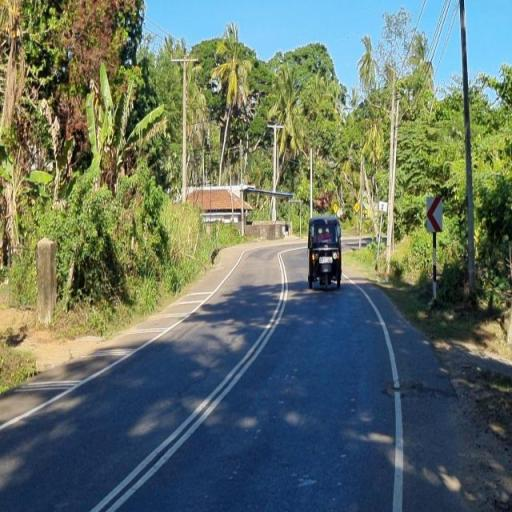double_white_line: (87, 249, 294, 512)
